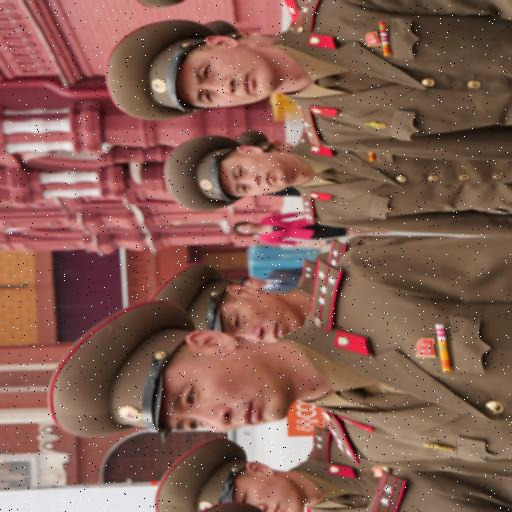north army: (68, 11, 512, 512)
